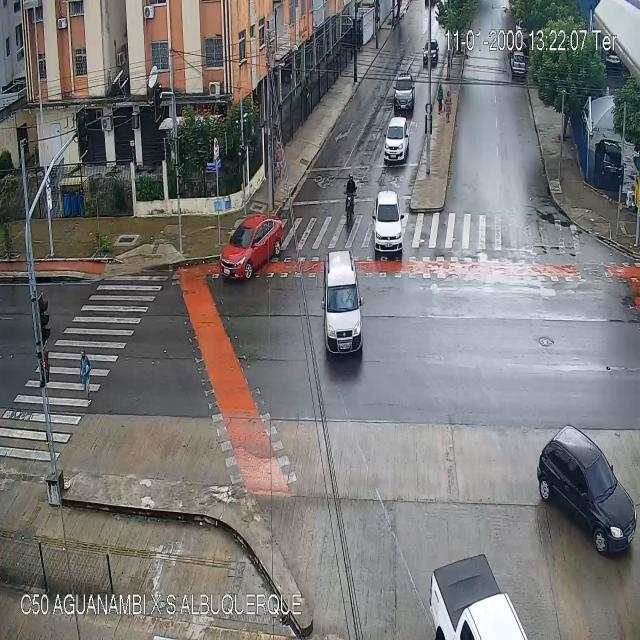Car: (538, 425, 634, 554), (430, 556, 525, 640), (321, 247, 363, 359), (220, 218, 283, 276), (373, 190, 405, 257), (384, 116, 411, 167), (393, 72, 415, 114), (422, 40, 437, 68), (512, 53, 526, 79)
Motorcycle: (344, 174, 356, 227)
